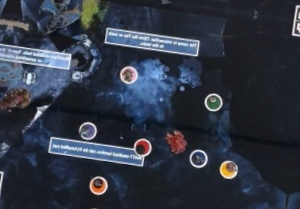blue: (188, 144, 211, 170)
green: (201, 89, 225, 112)
orange: (84, 173, 112, 198)
pink: (115, 62, 142, 86)
red: (130, 133, 157, 160)
violet: (76, 118, 99, 142)
yellow: (218, 155, 242, 181)
